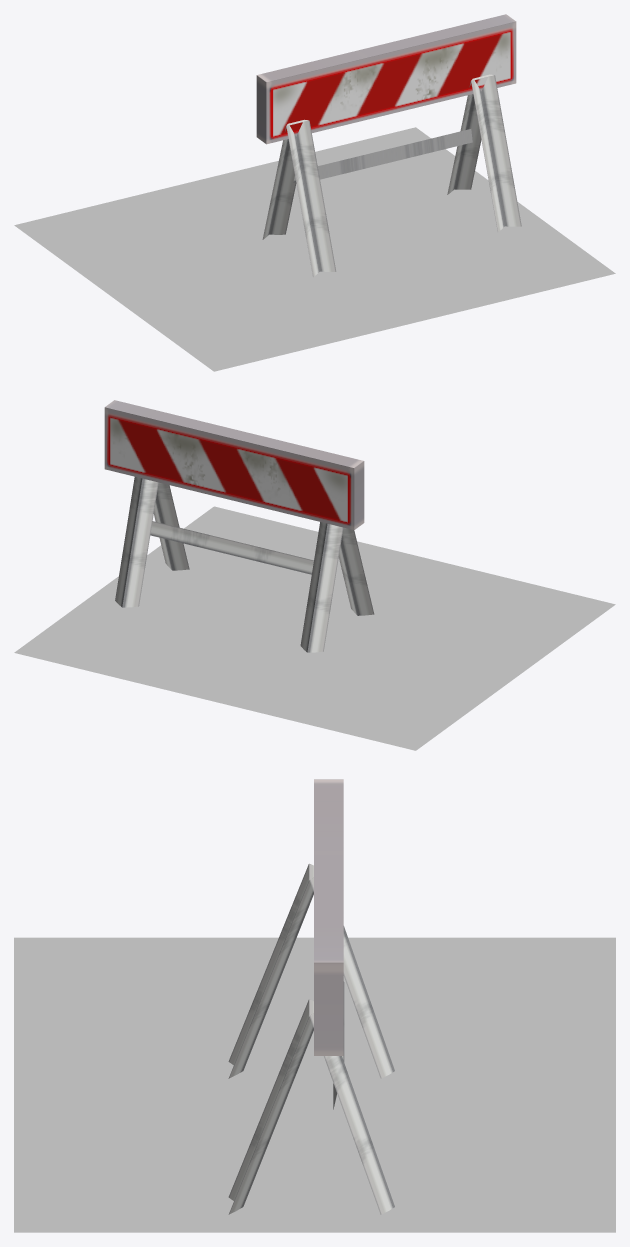
Rendered from roadwork_sign.fbx.
The picture shows the model from 3 angles, top to bottom: view 1: azimuth 30°, elevation 25°; view 2: azimuth 150°, elevation 25°; view 3: azimuth 270°, elevation 25°; orthographic projection. The views are drawn at different scales.
Parts seen in each view (by area): view 1: roadwork_debris, roadwork_sign; view 2: roadwork_debris, roadwork_sign; view 3: roadwork_debris, roadwork_sign.
Part boxes in pixels (<box>): roadwork_debris: <box>14,127,615,371</box>; roadwork_sign: <box>256,14,521,277</box>; roadwork_debris: <box>14,506,615,750</box>; roadwork_sign: <box>104,400,374,652</box>; roadwork_debris: <box>14,937,615,1232</box>; roadwork_sign: <box>228,779,394,1214</box>.
Size of the model in its own units: 372 by 159 by 321.
